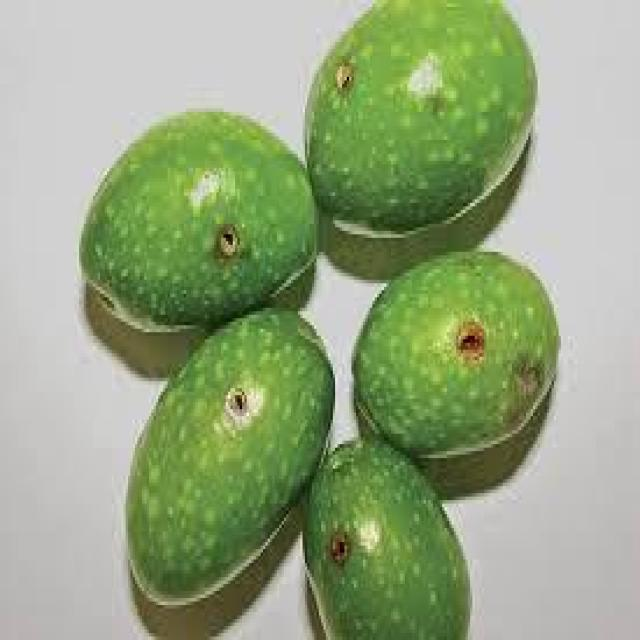Olive Fruit Fly: (128, 311, 333, 637), (305, 0, 535, 252), (81, 108, 314, 329), (354, 252, 556, 455), (303, 441, 465, 637)
